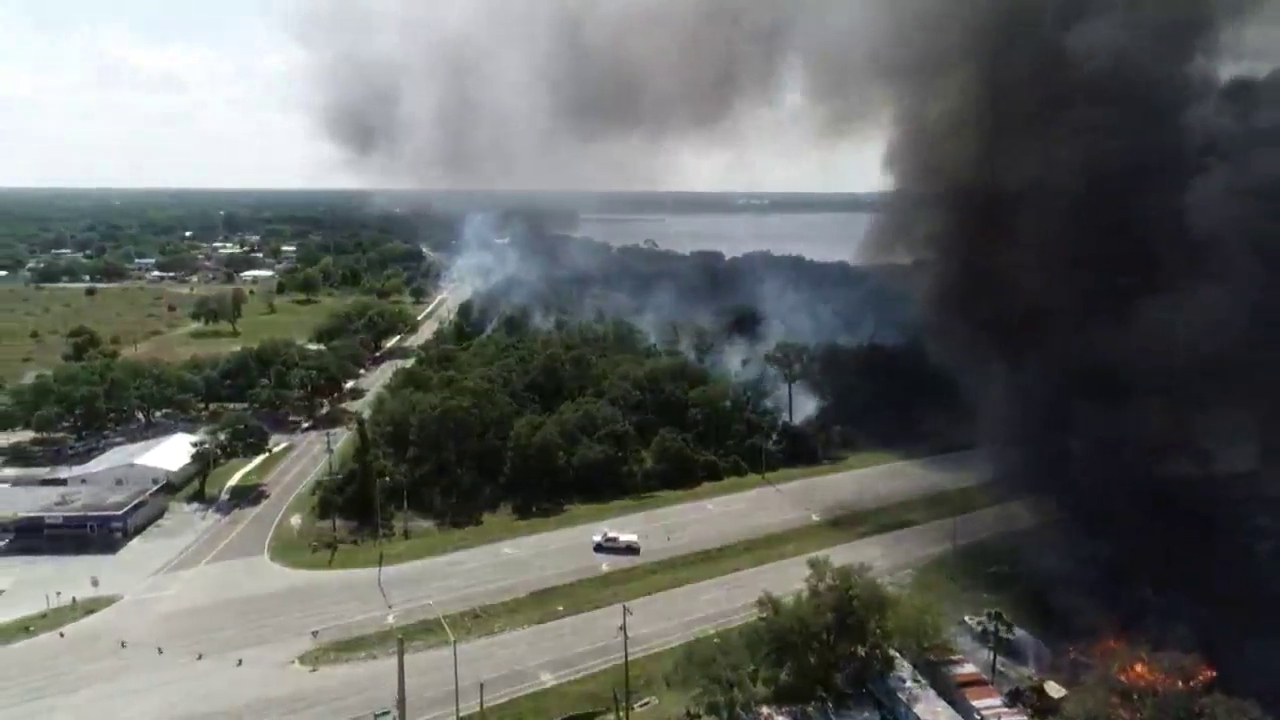forest_fire: (1057, 641, 1270, 719)
